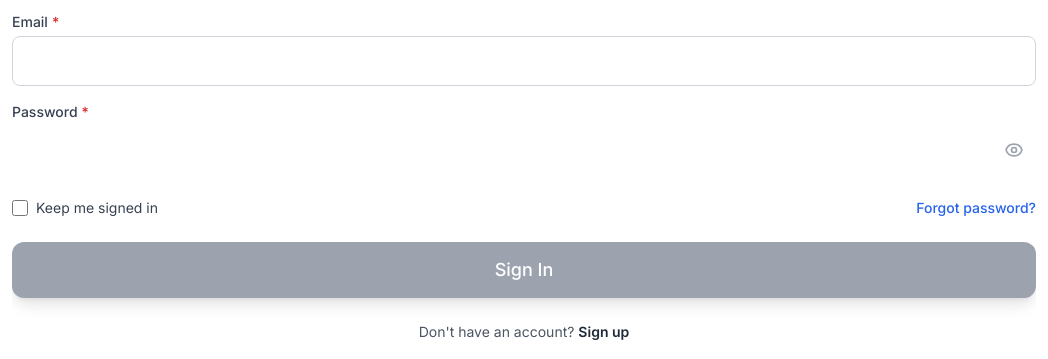
Test case: LoginForm › shows loading state during form submission
Type "test@example.com" into the field labelled "Email*" at (524, 61), box top-left (12, 36), bottom-right (1036, 86)
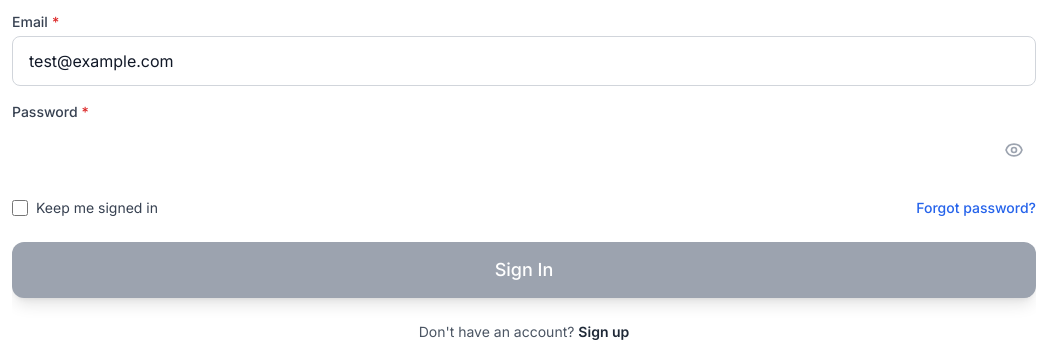
Type "password123" into the password field labelled "Password*" at (524, 150), box top-left (12, 126), bottom-right (1036, 174)
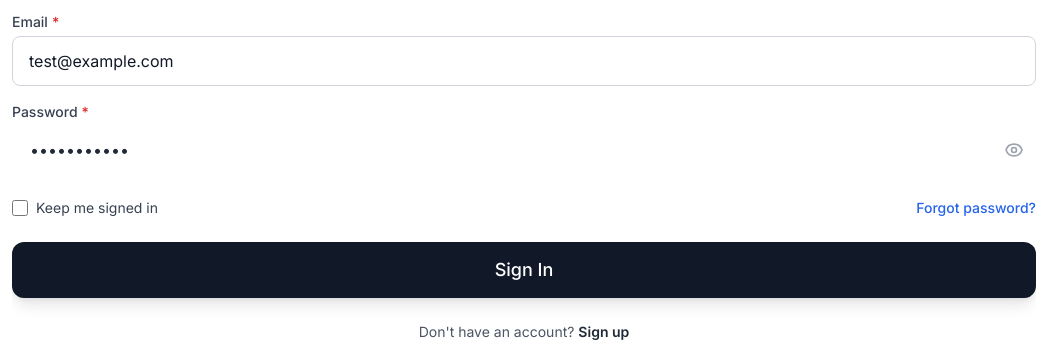
Submit the form
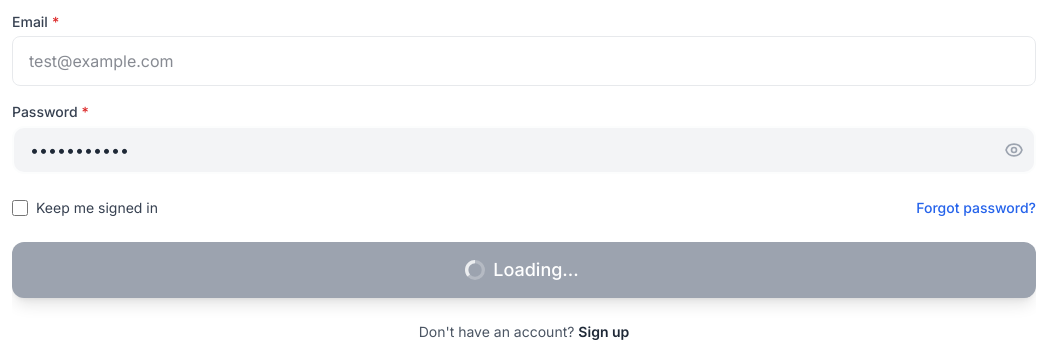
Check: the text "Loading..." is shown, box top-left (465, 259), bottom-right (579, 280)
